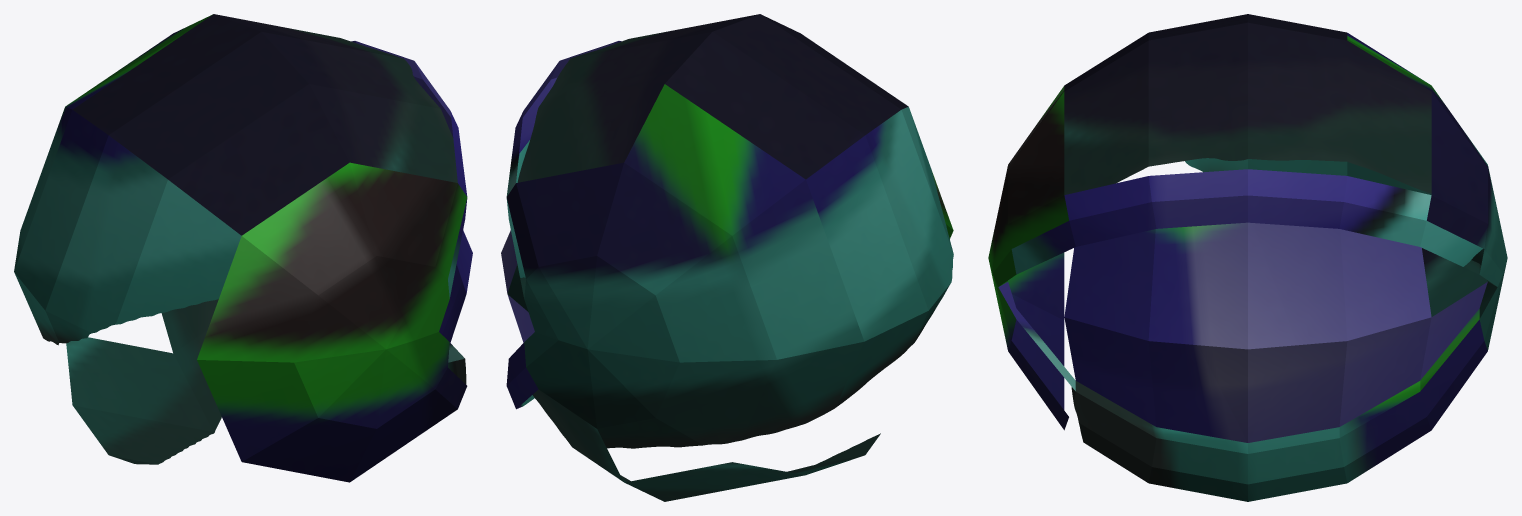
File: Pearl.obj
3 views of the same model, side by side, from view 1: azimuth 30°, elevation 25°; view 2: azimuth 150°, elevation 25°; view 3: azimuth 270°, elevation 25° (orthographic). The views are drawn at different scales.
Parts seen in each view (by area): view 1: Sphere; view 2: Sphere; view 3: Sphere.
Boxes of the visible parts, <box> form: Sphere: <box>14,14,472,482</box>; Sphere: <box>501,14,953,501</box>; Sphere: <box>988,14,1507,501</box>.
Bounding box in the file's own units: 5.5 × 6 × 6.
